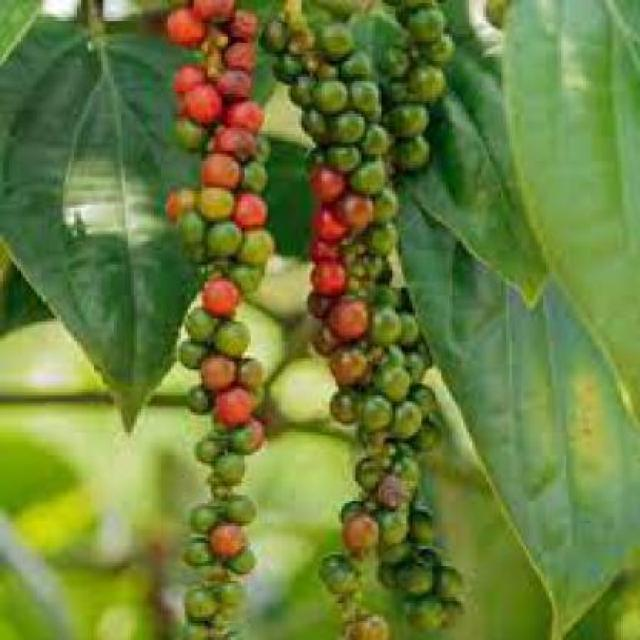RIPE: (154, 3, 285, 449), (305, 151, 366, 402)
